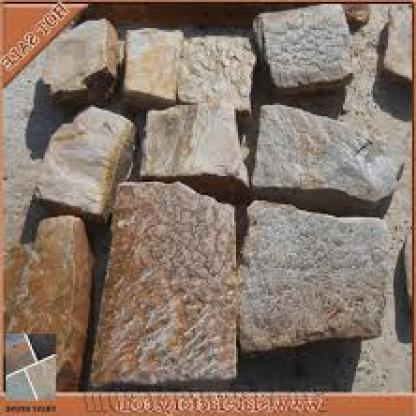Metamorphic_Quartize: (69, 172, 240, 382), (225, 204, 405, 354), (245, 112, 403, 216), (17, 112, 140, 214), (270, 2, 360, 80), (28, 17, 116, 90), (174, 34, 253, 108)
